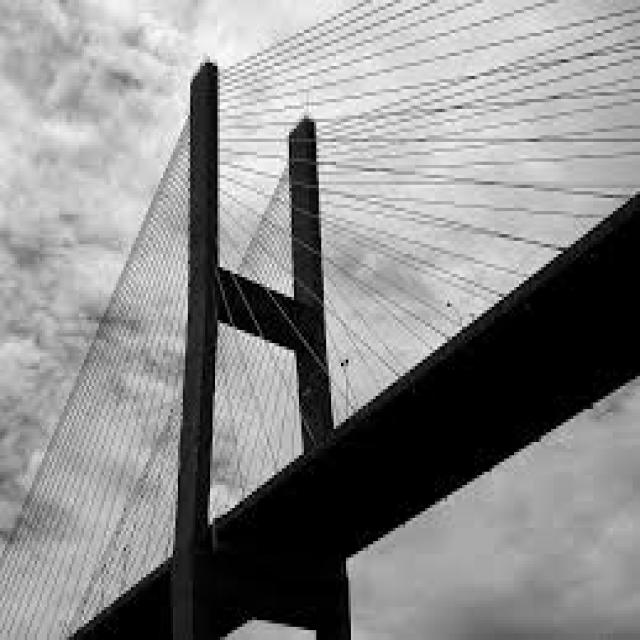Bridges: (24, 25, 640, 583)
